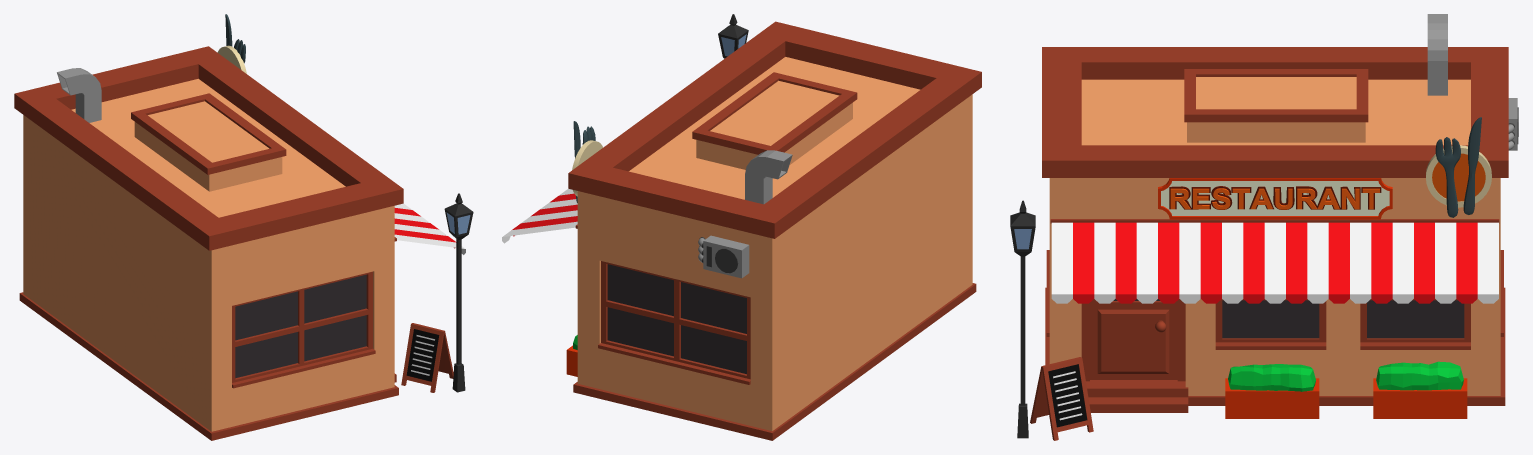
File: Restaurant.fbx
The picture shows the model from 3 angles, left to right: view 1: azimuth 30°, elevation 25°; view 2: azimuth 150°, elevation 25°; view 3: azimuth 270°, elevation 25°; orthographic projection. The views are drawn at different scales.
Parts seen in each view (by area): view 1: RestaurantBuilding, RestaurantBoard, RestaurantLight; view 2: RestaurantBuilding, RestaurantLight; view 3: RestaurantBuilding, RestaurantPlants, RestaurantBoard, RestaurantLight.
Part boxes in pixels (x1,y1,x2,y2): RestaurantBuilding: [14, 14, 465, 440]; RestaurantBoard: [401, 323, 453, 392]; RestaurantLight: [444, 193, 473, 392]; RestaurantBuilding: [502, 21, 981, 440]; RestaurantLight: [718, 14, 748, 58]; RestaurantBuilding: [1042, 14, 1518, 412]; RestaurantPlants: [1225, 361, 1467, 418]; RestaurantBoard: [1030, 357, 1093, 440]; RestaurantLight: [1010, 200, 1035, 438].
Size of the model in its own units: 285 by 257 by 401.
